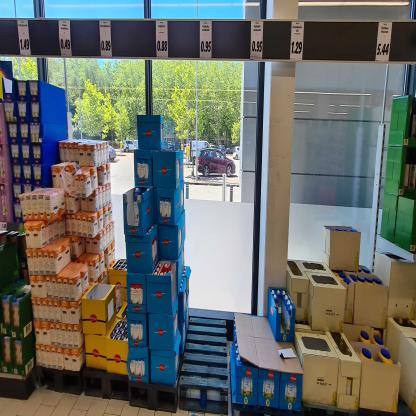prtg: (377, 24, 394, 63), (291, 22, 305, 61), (251, 22, 264, 60), (18, 21, 32, 56), (60, 21, 73, 57), (100, 22, 113, 58), (157, 21, 169, 59), (201, 22, 213, 59)
